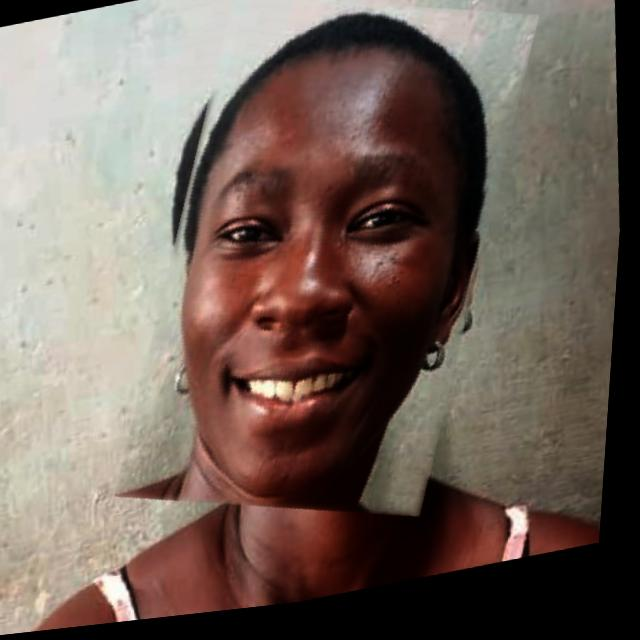happy: (107, 0, 554, 563)
